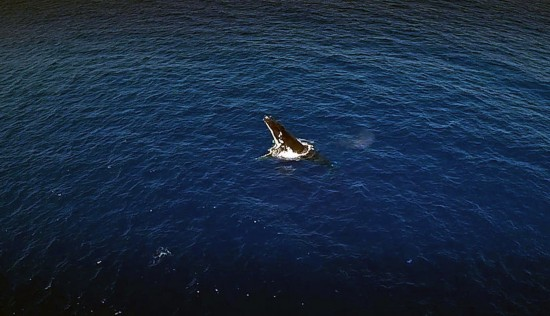fish: (260, 115, 323, 164)
